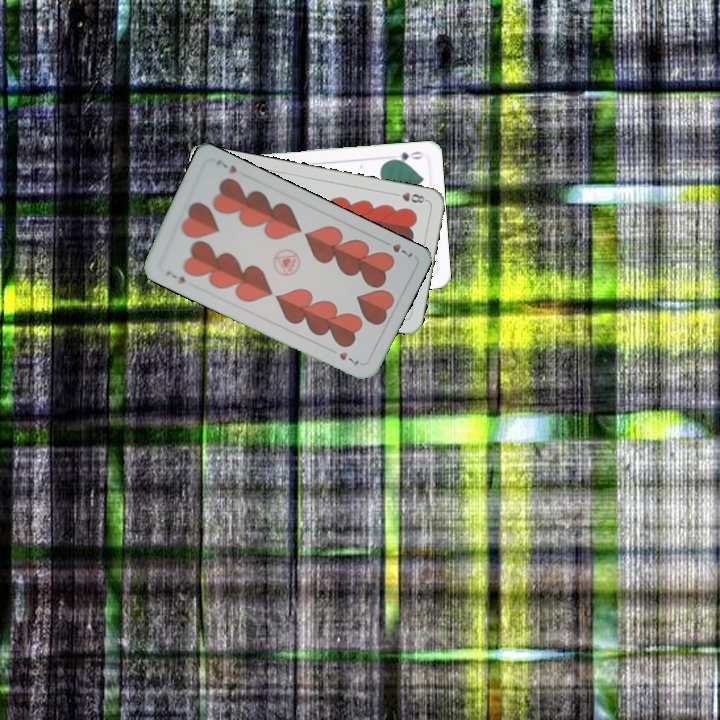GO: (386, 147, 426, 165)
H7: (378, 236, 415, 260), (161, 267, 188, 286)
H8: (389, 188, 429, 206)
